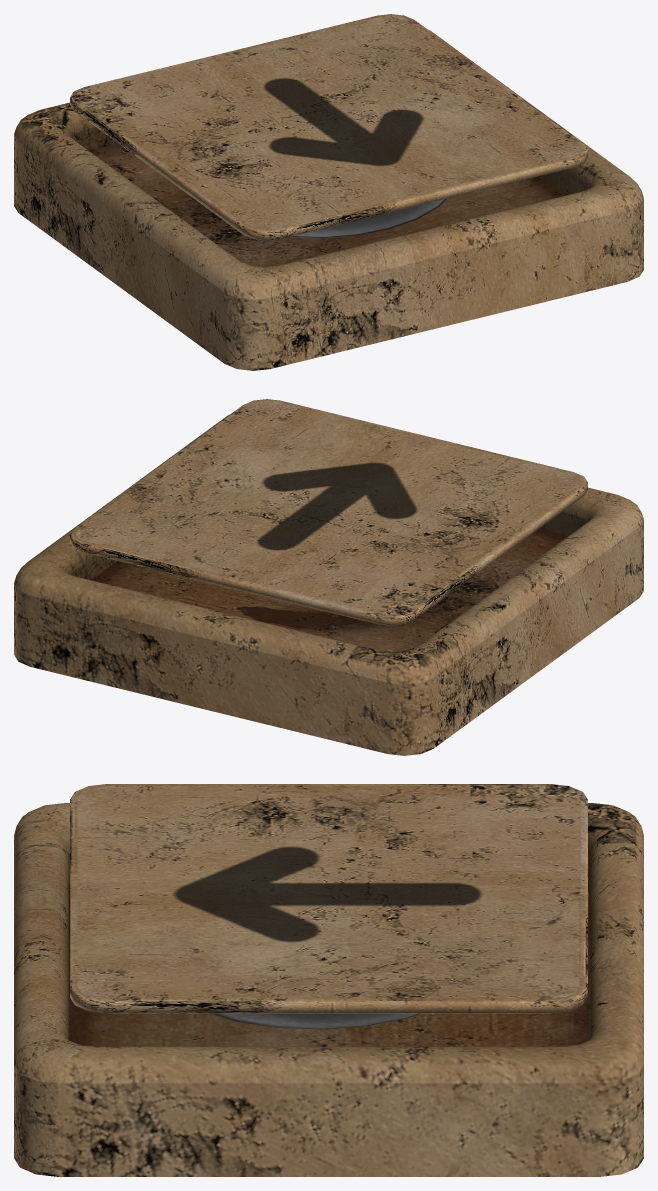
File: Obstacle-8.fbx
The picture shows the model from 3 angles, top to bottom: view 1: azimuth 30°, elevation 25°; view 2: azimuth 150°, elevation 25°; view 3: azimuth 270°, elevation 25°; orthographic projection. The views are drawn at different scales.
Visible parts, largest first — view 1: Obstacle-8-Cover, Obstacle-8; view 2: Obstacle-8-Cover, Obstacle-8; view 3: Obstacle-8-Cover, Obstacle-8.
Part boxes in pixels (bbox=[...]): Obstacle-8-Cover: bbox=[14, 30, 643, 370]; Obstacle-8: bbox=[70, 14, 587, 240]; Obstacle-8-Cover: bbox=[14, 415, 643, 755]; Obstacle-8: bbox=[70, 399, 587, 625]; Obstacle-8-Cover: bbox=[14, 803, 643, 1176]; Obstacle-8: bbox=[70, 784, 587, 1029].
Bounding box in the file's own units: 1 × 0.2653 × 1.
